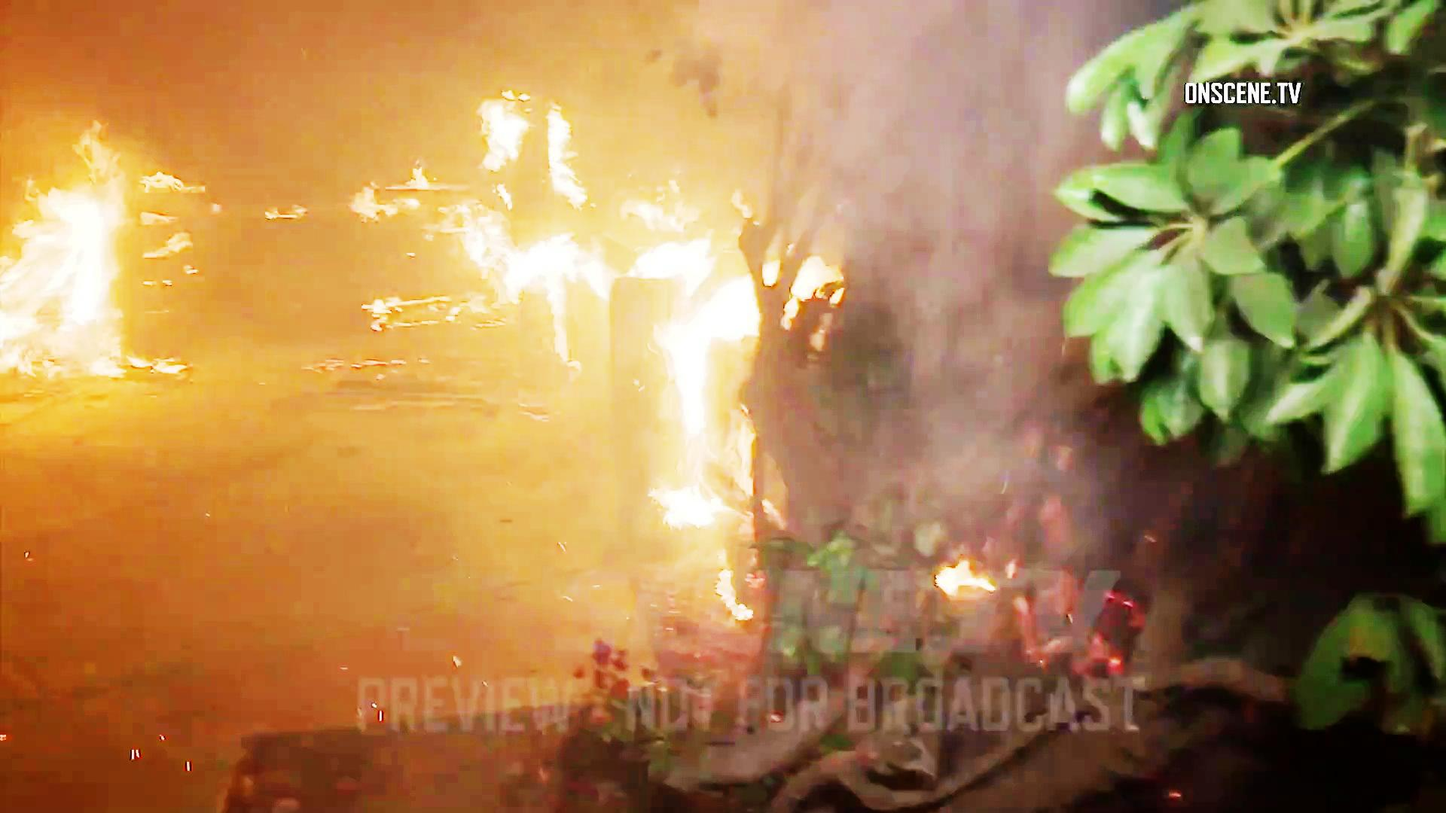fire: (0, 157, 125, 383), (460, 100, 587, 312)
